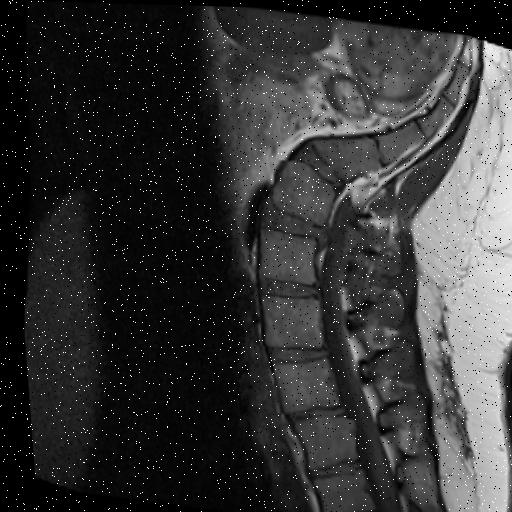L1: (288, 413, 348, 468)
L2: (268, 357, 331, 410)
L3: (258, 294, 316, 342)
L4: (257, 227, 309, 280)
L5: (269, 158, 329, 222)
S1: (308, 134, 376, 180)
